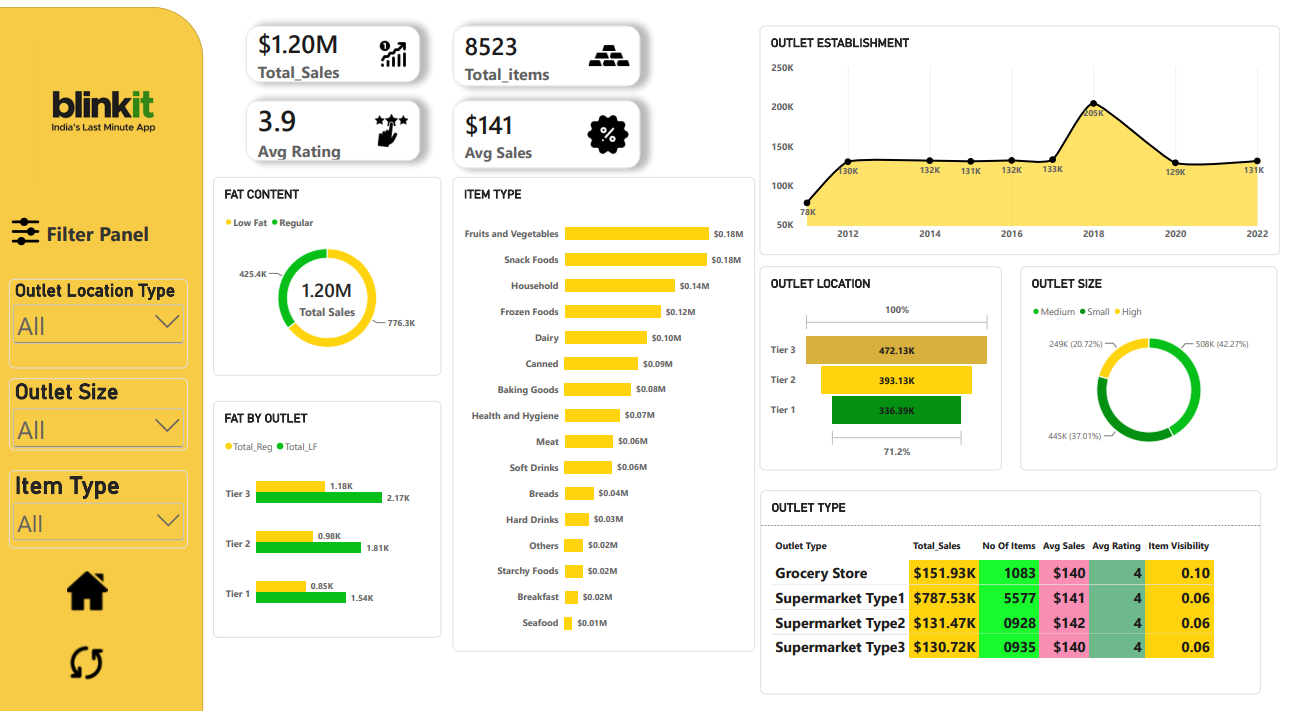

The dashboard page shown, as its layout file describes it:
{"tool":"powerbi","page":{"name":"Page 2","canvas":[1920,1080],"ordinal":1},"visuals":[{"type":"cardVisual","fields":{"Data":["BlinkIT Grocery Data.Total_Sales"]},"box":[369.9,27.6,261.5,85],"z":0},{"type":"cardVisual","fields":{"Data":["BlinkIT Grocery Data.Total_items"]},"box":[680.3,27.6,280.6,91.4],"z":1000},{"type":"cardVisual","fields":{"Data":["Avg(BlinkIT Grocery Data.Sales)"]},"box":[680.3,140.3,280.6,102],"z":2000},{"type":"cardVisual","title":"Avg Rating","fields":{"Data":["Avg(BlinkIT Grocery Data.Rating)"]},"box":[369.9,140.3,261.3,91],"z":3000},{"type":"clusteredBarChart","title":"FAT BY OUTLET","fields":{"Y":["BlinkIT Grocery Data.Total_Reg","BlinkIT Grocery Data.Total_LF"],"Category":["BlinkIT Grocery Data.Outlet Location Type"]},"box":[321,591,342.3,355],"z":4000},{"type":"donutChart","title":"FAT CONTENT","fields":{"Category":["BlinkIT Grocery Data.Item Fat Content"],"Y":["Sum(BlinkIT Grocery Data.Sales)"]},"box":[321,255.1,342.3,297.6],"z":5000},{"type":"clusteredBarChart","title":"ITEM TYPE","fields":{"Category":["BlinkIT Grocery Data.Item Type"],"Y":["BlinkIT Grocery Data.Total_Sales"]},"box":[680.3,255.1,452.8,712.2],"z":6000},{"type":"stackedAreaChart","title":"OUTLET ESTABLISHMENT","fields":{"Category":["BlinkIT Grocery Data.Outlet Establishment Year"],"Y":["Sum(BlinkIT Grocery Data.Sales)"]},"box":[1139.5,27.6,780.2,344.4],"z":7000},{"type":"donutChart","title":"OUTLET SIZE","fields":{"Category":["BlinkIT Grocery Data.Outlet Size"],"Y":["Sum(BlinkIT Grocery Data.Sales)"]},"box":[1530.7,389.1,384.8,306.1],"z":8000},{"type":"tableEx","title":"OUTLET TYPE","fields":{"Values":["BlinkIT Grocery Data.Outlet Type","BlinkIT Grocery Data.Total_Sales","BlinkIT Grocery Data.Total_items","Avg(BlinkIT Grocery Data.Sales)","Avg(BlinkIT Grocery Data.Rating)","Avg(BlinkIT Grocery Data.Item Visibility)"]},"box":[1140.8,725.4,750.2,305.9],"z":9000},{"type":"funnel","title":"OUTLET LOCATION","fields":{"Category":["BlinkIT Grocery Data.Outlet Location Type"],"Y":["Sum(BlinkIT Grocery Data.Sales)"]},"box":[1139.5,389.1,363.5,306.1],"z":10000},{"type":"shape","box":[0,0,306.1,1080],"z":11000},{"type":"slicer","fields":{"Values":["BlinkIT Grocery Data.Outlet Location Type"]},"box":[14.9,408.2,267.9,133.9],"z":12000},{"type":"slicer","fields":{"Values":["BlinkIT Grocery Data.Outlet Size"]},"box":[14.9,557,267.9,108.4],"z":13000},{"type":"slicer","fields":{"Values":["BlinkIT Grocery Data.Item Type"]},"box":[14.9,695.2,267.9,116.9],"z":14000},{"type":"shape","box":[31.9,304,231.7,68],"z":15000},{"type":"image","box":[0,312.5,78.7,48.9],"z":16000},{"type":"image","box":[0,0,372,304],"z":17000},{"type":"actionButton","box":[31.9,831.3,199.8,91.4],"z":17001},{"type":"actionButton","box":[29.8,935.4,202,95.7],"z":17002}]}

Visuals, with their boxes in screenshot pixels (x1, y1, x2, y2), scaled from the page's 1920x1080 canvas onto the 1291x711 screenshot:
cardVisual - BlinkIT Grocery Data.Total_Sales: rect(249, 18, 425, 74)
cardVisual - BlinkIT Grocery Data.Total_items: rect(457, 18, 646, 78)
cardVisual - Avg(BlinkIT Grocery Data.Sales): rect(457, 92, 646, 160)
"Avg Rating" cardVisual: rect(249, 92, 424, 152)
"FAT BY OUTLET" clusteredBarChart: rect(216, 389, 446, 623)
"FAT CONTENT" donutChart: rect(216, 168, 446, 364)
"ITEM TYPE" clusteredBarChart: rect(457, 168, 762, 637)
"OUTLET ESTABLISHMENT" stackedAreaChart: rect(766, 18, 1290, 245)
"OUTLET SIZE" donutChart: rect(1029, 256, 1288, 458)
"OUTLET TYPE" tableEx: rect(767, 478, 1272, 679)
"OUTLET LOCATION" funnel: rect(766, 256, 1011, 458)
shape: rect(0, 0, 206, 710)
slicer - BlinkIT Grocery Data.Outlet Location Type: rect(10, 269, 190, 357)
slicer - BlinkIT Grocery Data.Outlet Size: rect(10, 367, 190, 438)
slicer - BlinkIT Grocery Data.Item Type: rect(10, 458, 190, 535)
shape: rect(21, 200, 177, 245)
image: rect(0, 206, 53, 238)
image: rect(0, 0, 250, 200)
actionButton: rect(21, 547, 156, 607)
actionButton: rect(20, 616, 156, 679)
